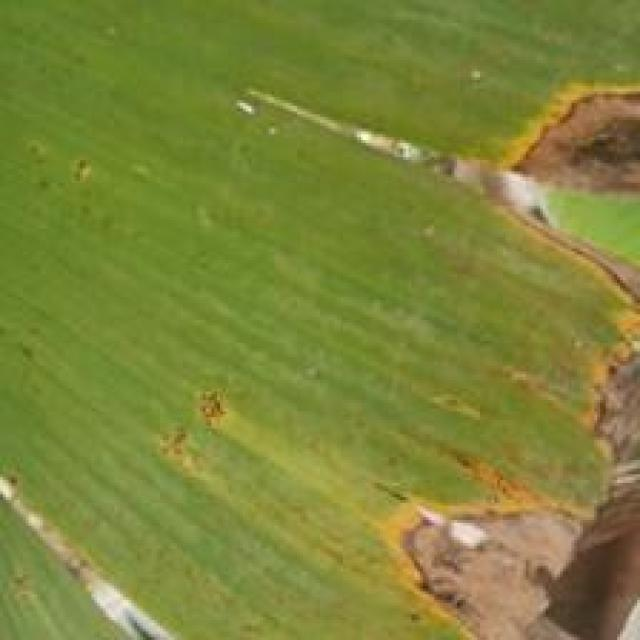Downey_mildrew: (254, 349, 640, 640), (231, 57, 640, 326), (0, 460, 200, 640), (140, 371, 259, 489), (19, 132, 119, 202)
